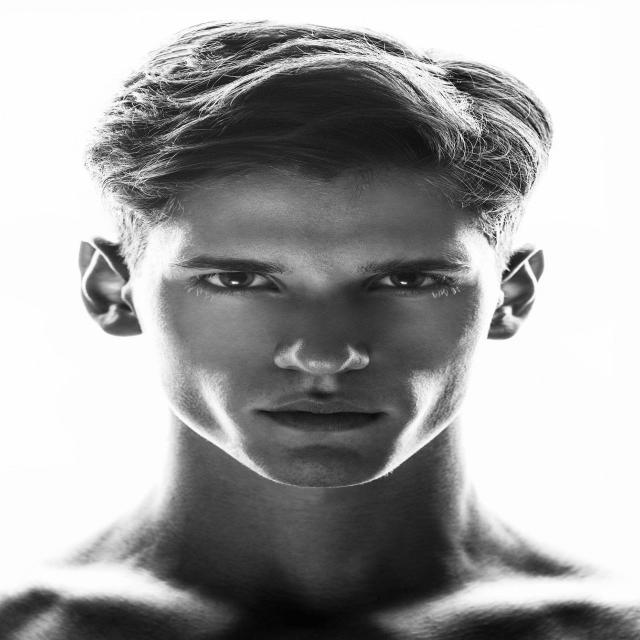earlobe: (76, 237, 142, 337), (486, 242, 545, 340)
